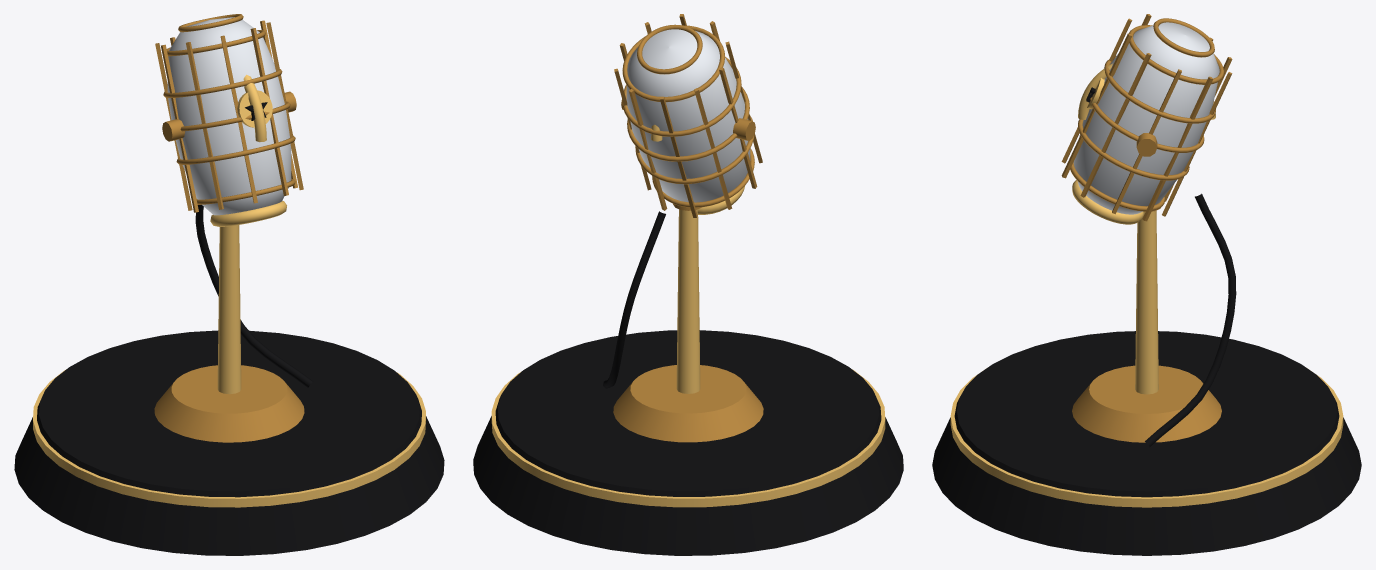
Rendered from gold-microphone.glb.
3 renders of one model, left to right at view 1: azimuth 30°, elevation 25°; view 2: azimuth 150°, elevation 25°; view 3: azimuth 270°, elevation 25°, orthographic.
Parts seen in each view (by area): view 1: black, gold-dark, silver, gold; view 2: black, gold-dark, silver, gold; view 3: black, gold-dark, silver, gold.
Part boxes in pixels (bbox=[...]): black: bbox=[14, 102, 444, 555]; gold-dark: bbox=[154, 14, 304, 442]; silver: bbox=[167, 17, 291, 215]; gold: bbox=[33, 74, 425, 507]; black: bbox=[473, 211, 903, 555]; gold-dark: bbox=[613, 14, 763, 442]; silver: bbox=[626, 29, 750, 202]; gold: bbox=[491, 124, 885, 507]; black: bbox=[932, 87, 1361, 555]; gold-dark: bbox=[1061, 14, 1232, 442]; silver: bbox=[1073, 22, 1219, 214]; gold: bbox=[950, 63, 1343, 507].
Size of the model in its own units: 0.252 by 0.2852 by 0.252.
